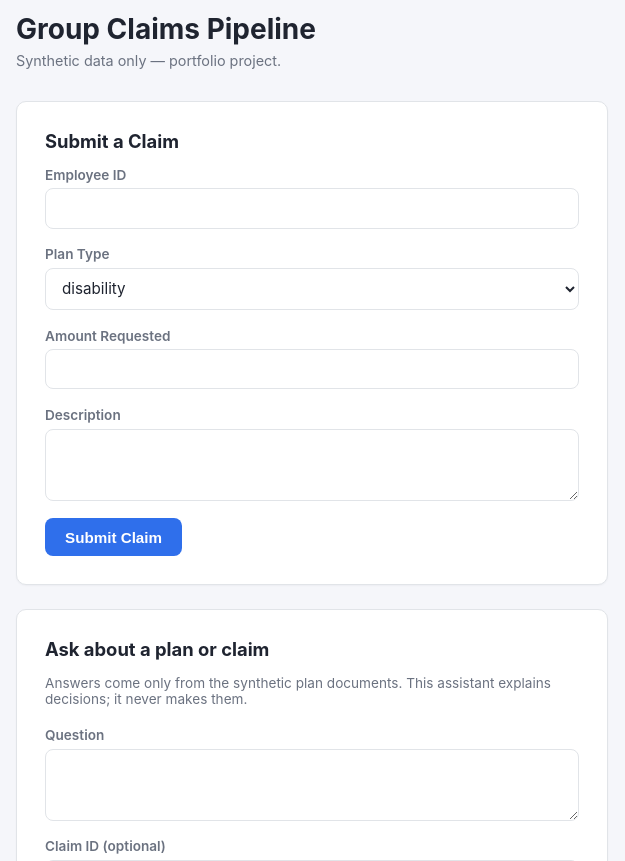
Test: App › shows the claim status view after a successful submission
The width and height of the screenshot is (625, 861).
Type "EMP-1" into the field labelled "Employee ID" at (312, 209), box [45,188,579,229]
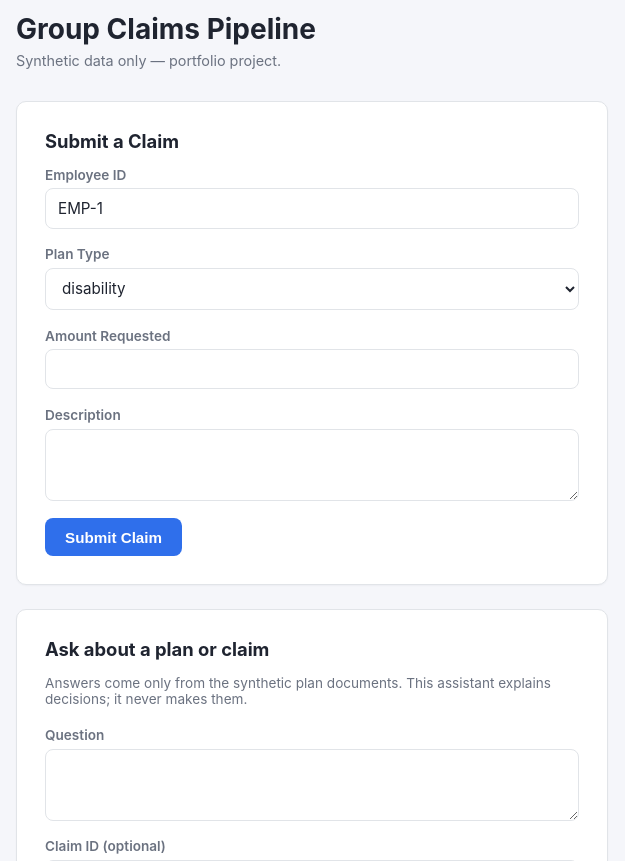
Type "100" into the number field labelled "Amount Requested" at (312, 369), box [45,349,579,389]
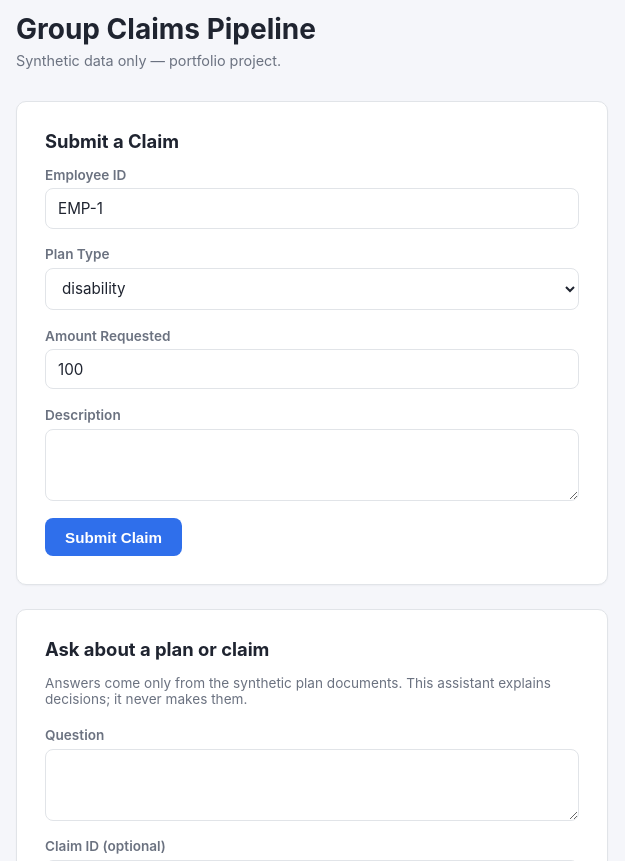
Click the button "Submit Claim" at (114, 537), box [45,518,182,556]
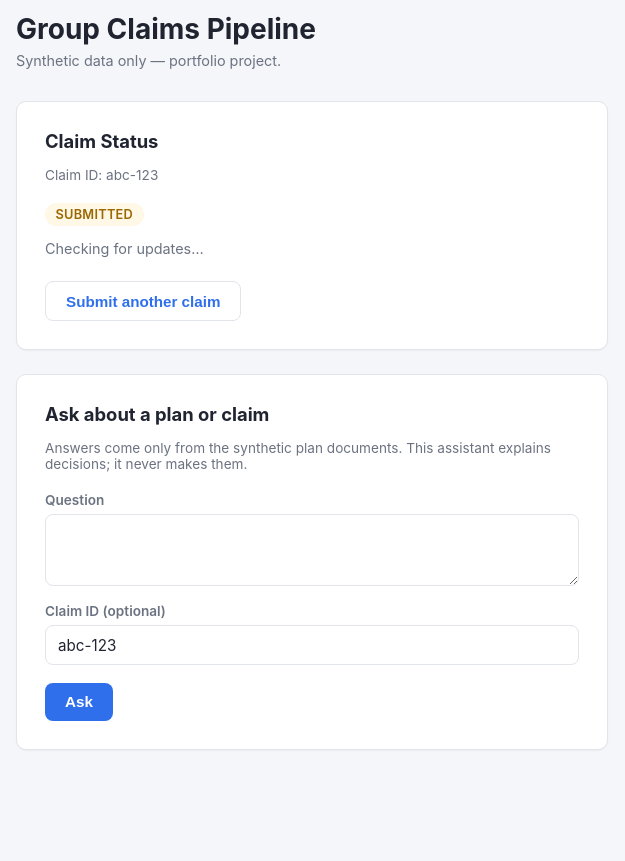
Now the heading "Claim Status" is shown, box [45,130,158,152]
Now the text "Claim ID: abc-123" is shown, box [45,167,158,183]
